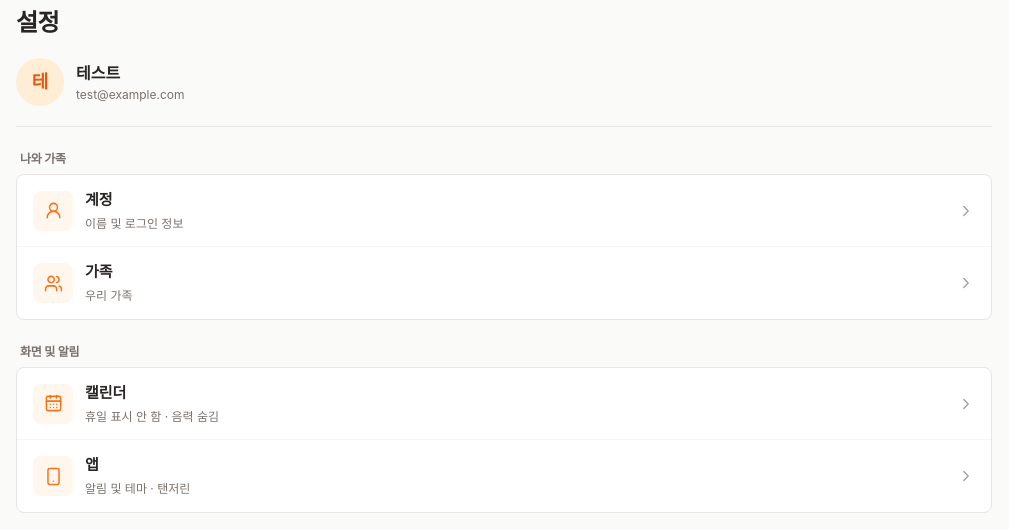
Test: SettingsTab 앱 서브뷰 — 알림 › Notification 미지원 환경에서는 알림 섹션이 표시되지 않는다
The width and height of the screenshot is (1009, 530).
Click the button "앱 알림 및 테마 · 탠저린" at (53, 476), box [17,440,991,512]
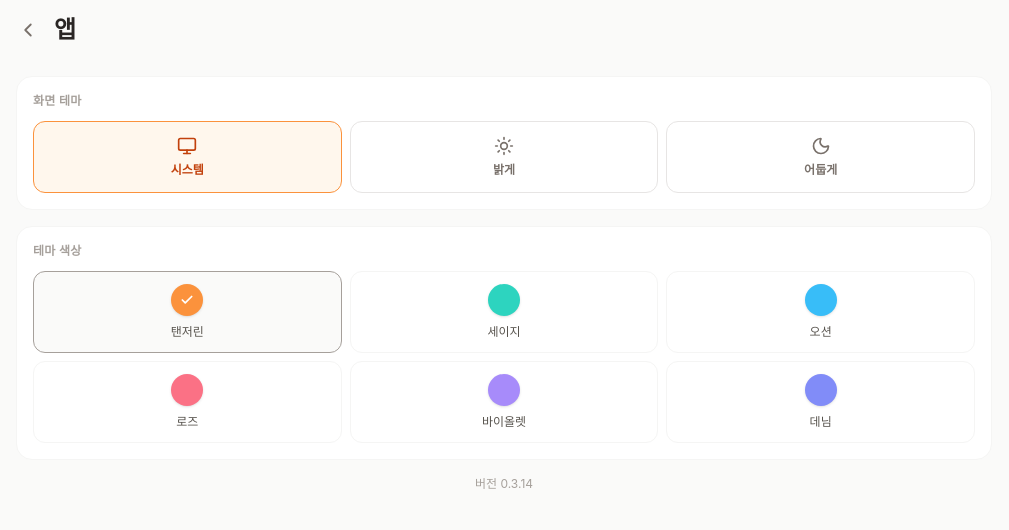
Result: the heading "알림" is gone
